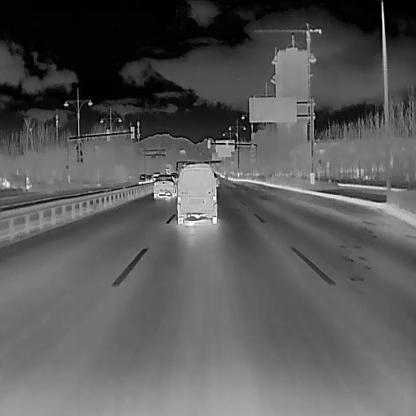car: (176, 163, 217, 225), (153, 174, 177, 200), (137, 172, 147, 183)
